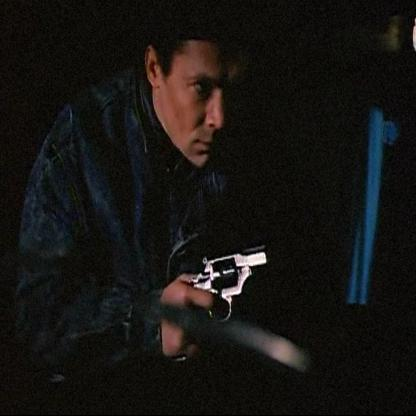gun: (195, 239, 283, 316)
